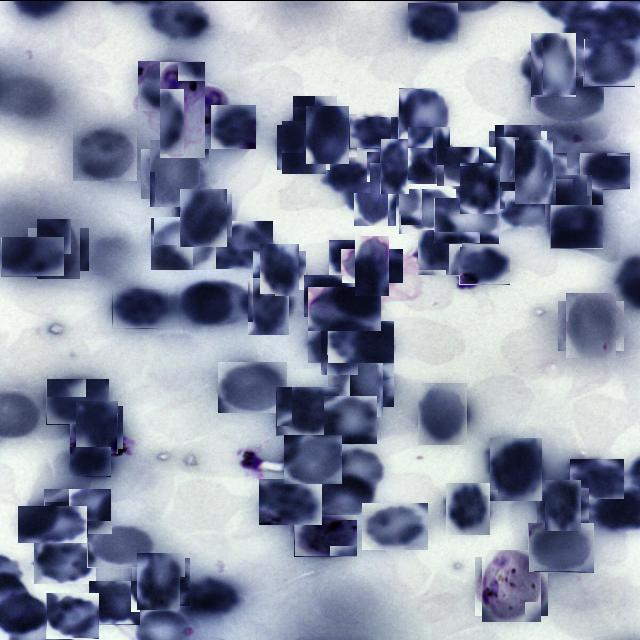red blood cell: (150, 216, 216, 270), (532, 75, 606, 123), (218, 361, 287, 412), (146, 144, 204, 202), (488, 440, 546, 498), (562, 296, 620, 354), (44, 488, 111, 538), (528, 522, 594, 572), (73, 129, 137, 180), (138, 60, 203, 110), (308, 286, 381, 330), (310, 472, 378, 519), (322, 446, 388, 494), (414, 386, 470, 442), (362, 502, 428, 549), (276, 386, 339, 435), (526, 37, 581, 92), (398, 88, 452, 144), (334, 356, 388, 412), (434, 197, 499, 243), (87, 524, 156, 567), (134, 554, 188, 608), (46, 378, 109, 424), (259, 478, 322, 524), (213, 220, 273, 268), (284, 434, 342, 483), (177, 190, 230, 243), (348, 168, 402, 220), (180, 282, 246, 324), (328, 320, 394, 362), (492, 126, 544, 178), (32, 222, 84, 274), (398, 188, 456, 234), (34, 540, 96, 583), (508, 146, 560, 197), (302, 109, 353, 160), (18, 505, 87, 542), (290, 99, 340, 150), (324, 395, 377, 443), (1, 236, 64, 276), (244, 280, 294, 330), (314, 318, 364, 368), (404, 130, 454, 180), (584, 38, 635, 86), (46, 592, 99, 638), (279, 122, 328, 171), (436, 146, 496, 186), (550, 204, 603, 248), (180, 576, 238, 616), (444, 484, 492, 532), (72, 402, 120, 450), (304, 274, 358, 316), (550, 180, 598, 227), (349, 241, 396, 289), (89, 580, 140, 624), (112, 288, 168, 328), (570, 458, 624, 498), (256, 246, 302, 292), (457, 164, 502, 210), (408, 2, 458, 42), (329, 239, 384, 275), (418, 230, 463, 274), (211, 104, 256, 148), (459, 246, 510, 284), (541, 483, 585, 527), (579, 152, 630, 189), (374, 144, 416, 187), (322, 158, 370, 192), (349, 116, 398, 148), (69, 446, 111, 476)
ring: (478, 552, 544, 618)
trophozoite: (146, 73, 218, 145), (294, 514, 357, 556)
